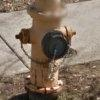Hydrant: (12, 1, 78, 97)
